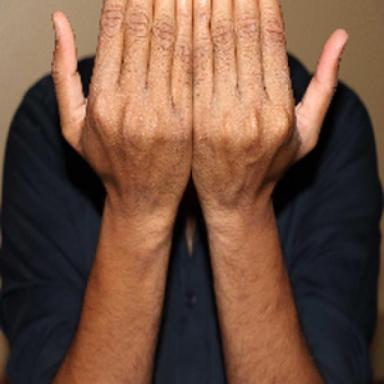normal skin: (52, 0, 347, 384)
